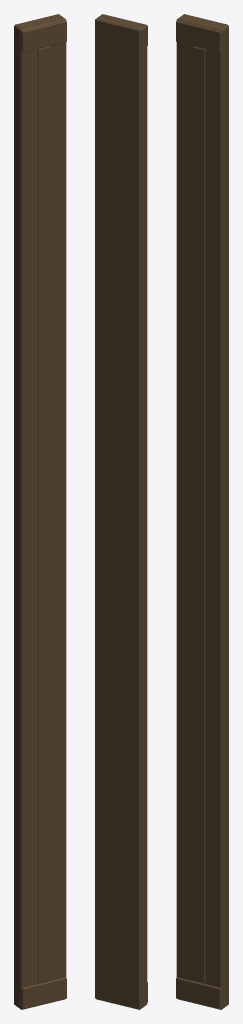
The model's file is passage-upright-lod1.fbx.
The picture shows the model from 3 angles, left to right: view 1: azimuth 30°, elevation 25°; view 2: azimuth 150°, elevation 25°; view 3: azimuth 330°, elevation 25°; orthographic projection.
Parts seen in each view (by area): view 1: Eased passage lining, Raised lining centre bead, Lining end shoulder, Lining end shoulder.001; view 2: Eased passage lining; view 3: Eased passage lining, Raised lining centre bead, Lining end shoulder, Lining end shoulder.001.
Part boxes in pixels (<box>): Eased passage lining: <box>14,14,66,1009</box>; Raised lining centre bead: <box>37,46,50,983</box>; Lining end shoulder: <box>21,977,66,1009</box>; Lining end shoulder.001: <box>21,20,66,52</box>; Eased passage lining: <box>95,14,147,1009</box>; Eased passage lining: <box>176,14,228,1009</box>; Raised lining centre bead: <box>192,46,205,983</box>; Lining end shoulder: <box>176,977,221,1009</box>; Lining end shoulder.001: <box>176,20,221,52</box>.
Bounding box in the file's own units: 12 × 245 × 3.95.
